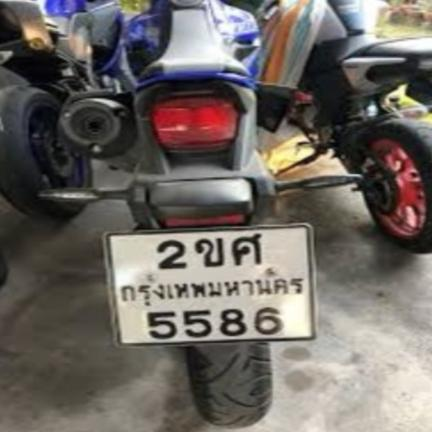2: (150, 237, 190, 270)
5: (145, 310, 179, 339), (182, 308, 213, 338)
6: (255, 306, 283, 335)
8: (215, 307, 249, 336)
A02: (192, 236, 227, 269)
A38: (231, 233, 266, 265)
BKK: (115, 275, 309, 310)
